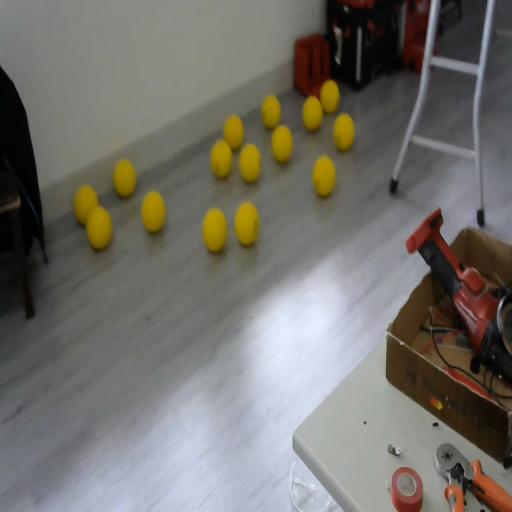FUEL: (85, 203, 113, 251), (234, 200, 260, 248), (202, 206, 228, 253), (311, 154, 336, 198), (142, 191, 166, 233), (270, 124, 294, 164), (238, 142, 262, 182), (210, 137, 232, 179), (113, 158, 136, 198), (222, 113, 244, 152), (333, 112, 355, 150), (261, 92, 281, 129), (302, 95, 322, 132), (320, 79, 340, 114)
